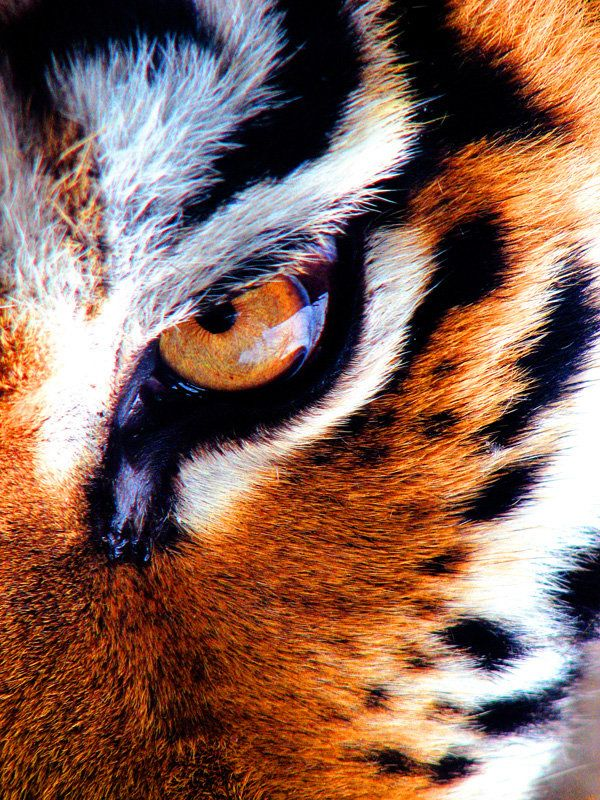Tigrew: (31, 29, 549, 727)
